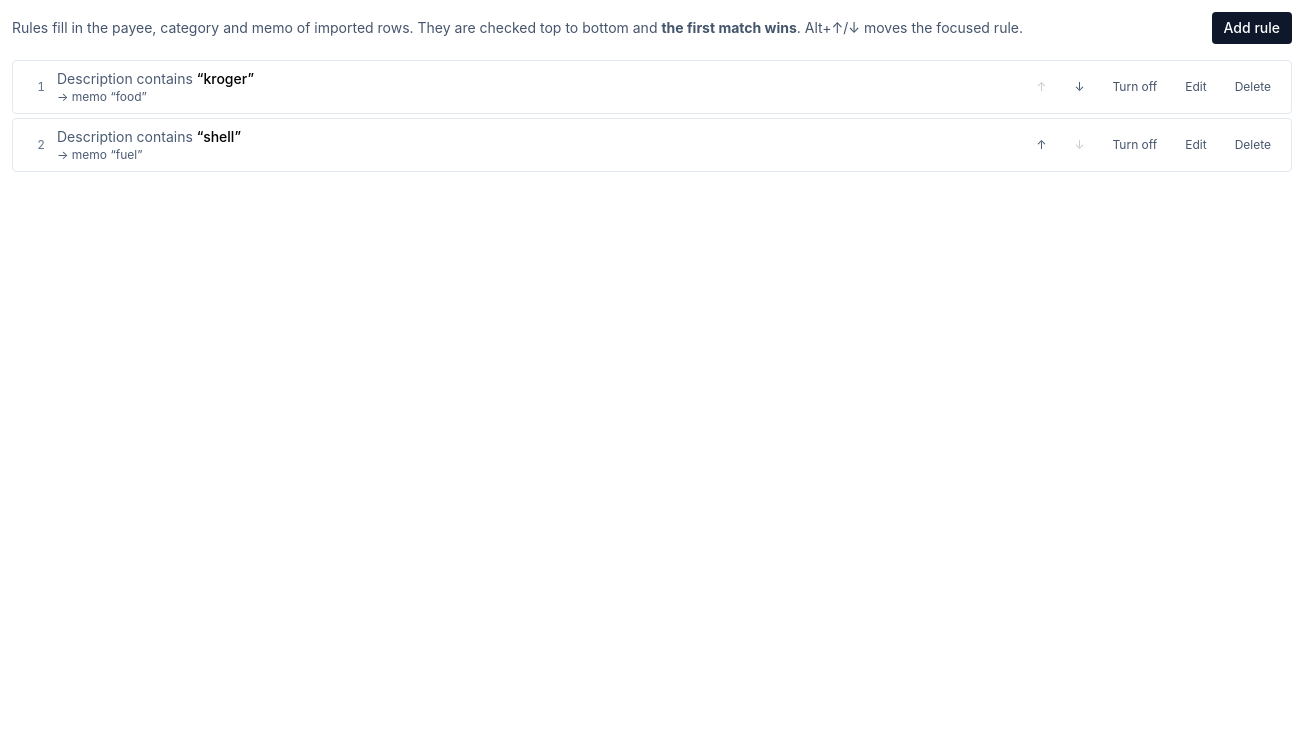
Test case: RulesSettingsPage › tests a new rule against past imports before saving
The image size is (1304, 732).
Click the button "Add rule" at (1252, 28), box [1212,12,1292,44]
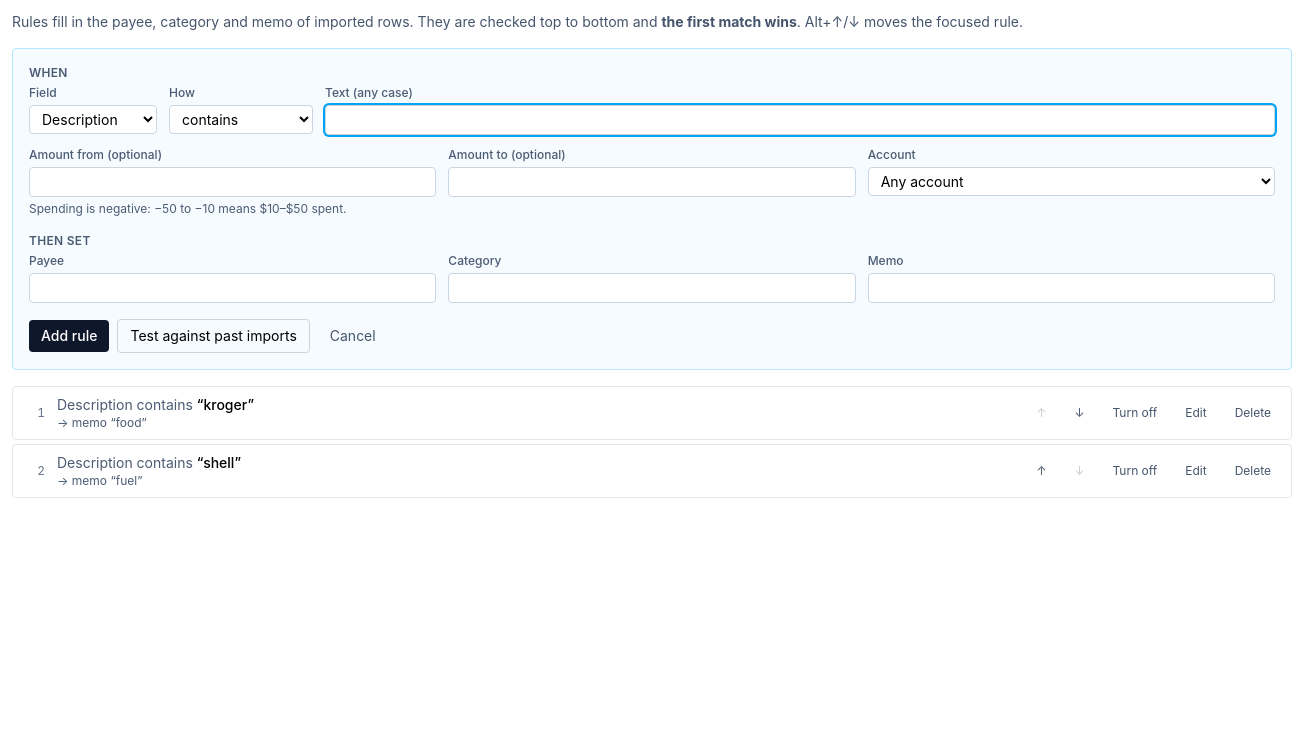
Type "kroger" into the field named "Match text" at (800, 120), box [325,105,1275,135]
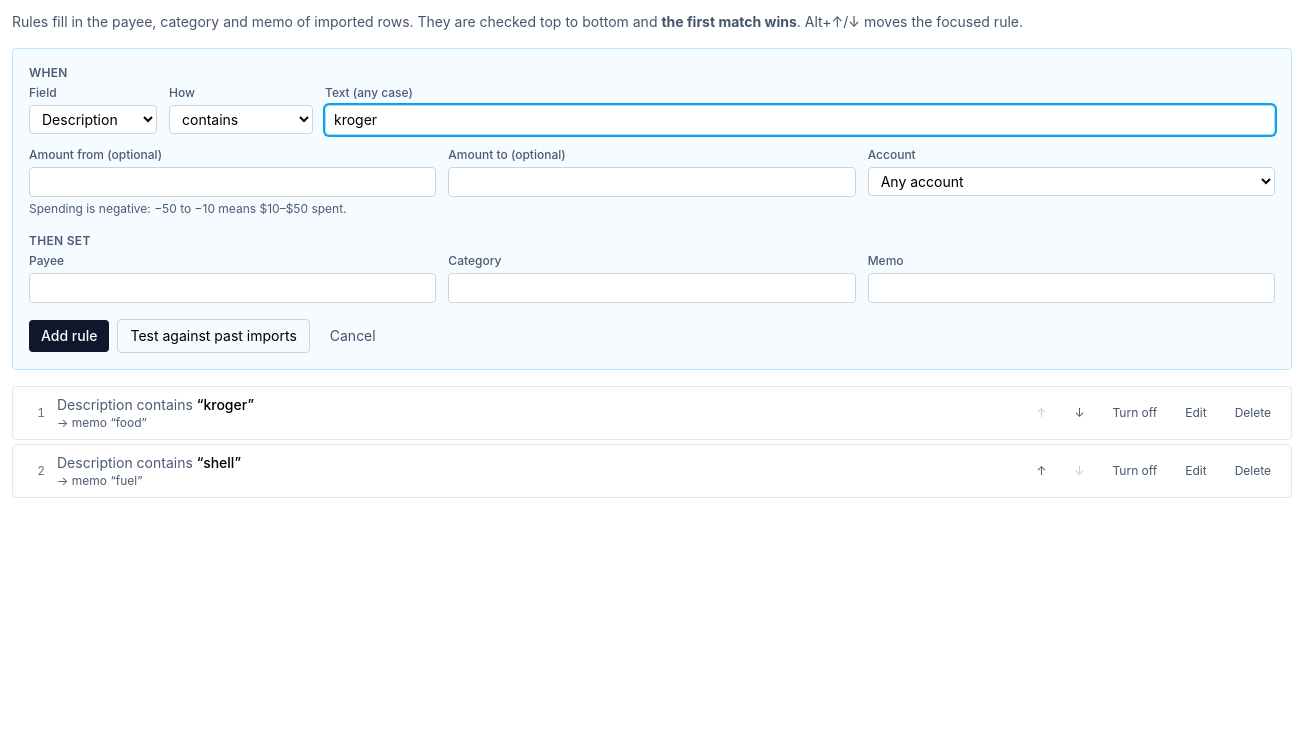
Click the button "Test against past imports" at (214, 336), box [118,319,310,353]
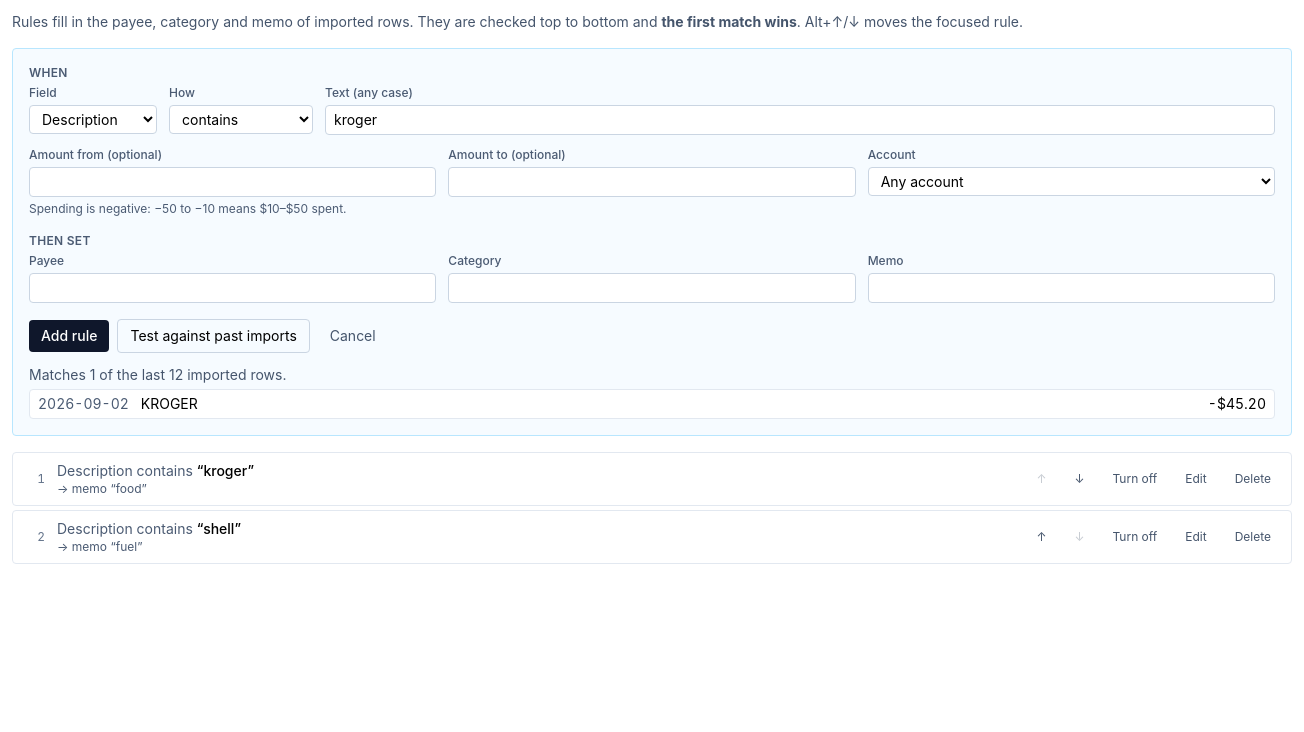
Expected: the element with test id "rule-test-result" shows "Matches 1 of the last 12 imported rows", [29,365,1275,419]
